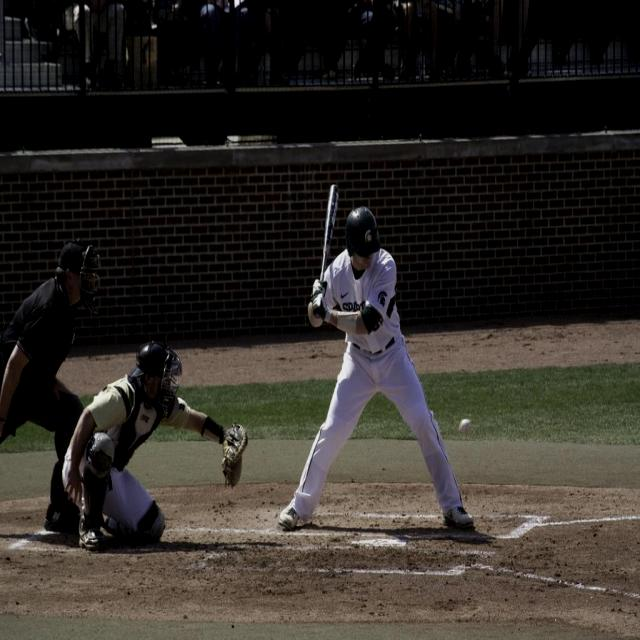baseball bat: (320, 184, 342, 282)
sports ball: (458, 420, 474, 434)
